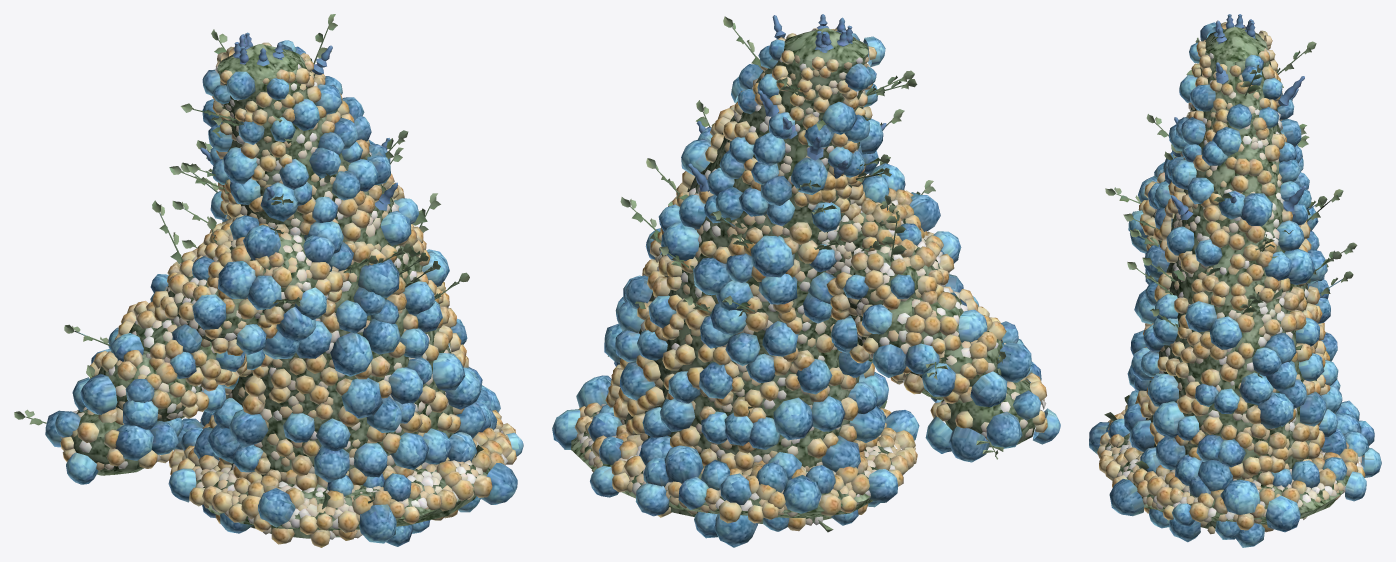
File: installation_small.glb
The picture shows the model from 3 angles, left to right: view 1: azimuth 30°, elevation 25°; view 2: azimuth 150°, elevation 25°; view 3: azimuth 270°, elevation 25°; orthographic projection. The views are drawn at different scales.
Parts seen in each view (by area): view 1: installation_small; view 2: installation_small; view 3: installation_small.
Boxes of the visible parts, bbox=[...] form: installation_small: bbox=[14, 14, 523, 547]; installation_small: bbox=[552, 14, 1060, 547]; installation_small: bbox=[1089, 14, 1381, 547].
Size of the model in its own units: 2.86 by 2.95 by 1.78.
Materials: 1 (1 with a texture image).
